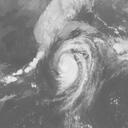cyclone: (56, 47, 85, 97)
